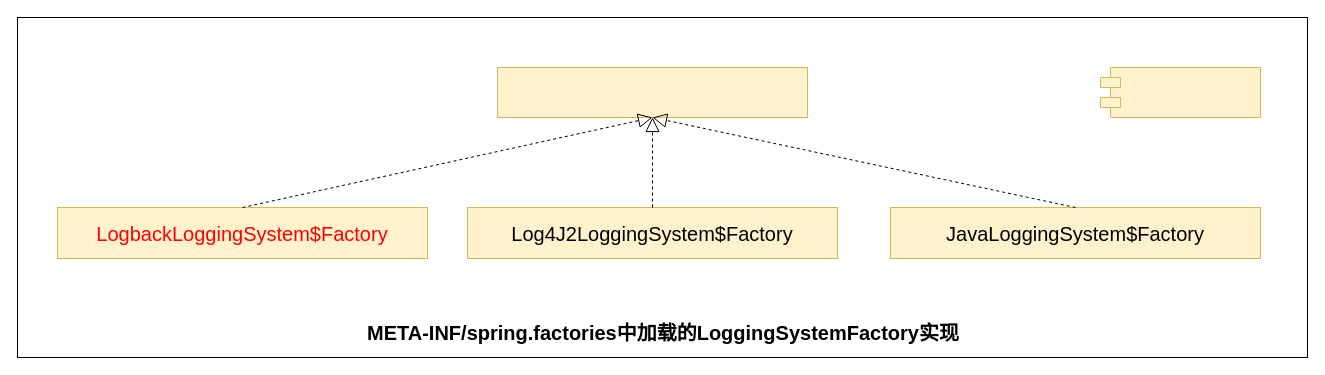
This 1325x375 diagram has some shape labels left out. Here are the shapes that lost their labels. From the top down, the centre of each, then its label:
At [652,92]: "«interface» LoggingSystemFactory".
At [1180,92]: "spring-boot".
